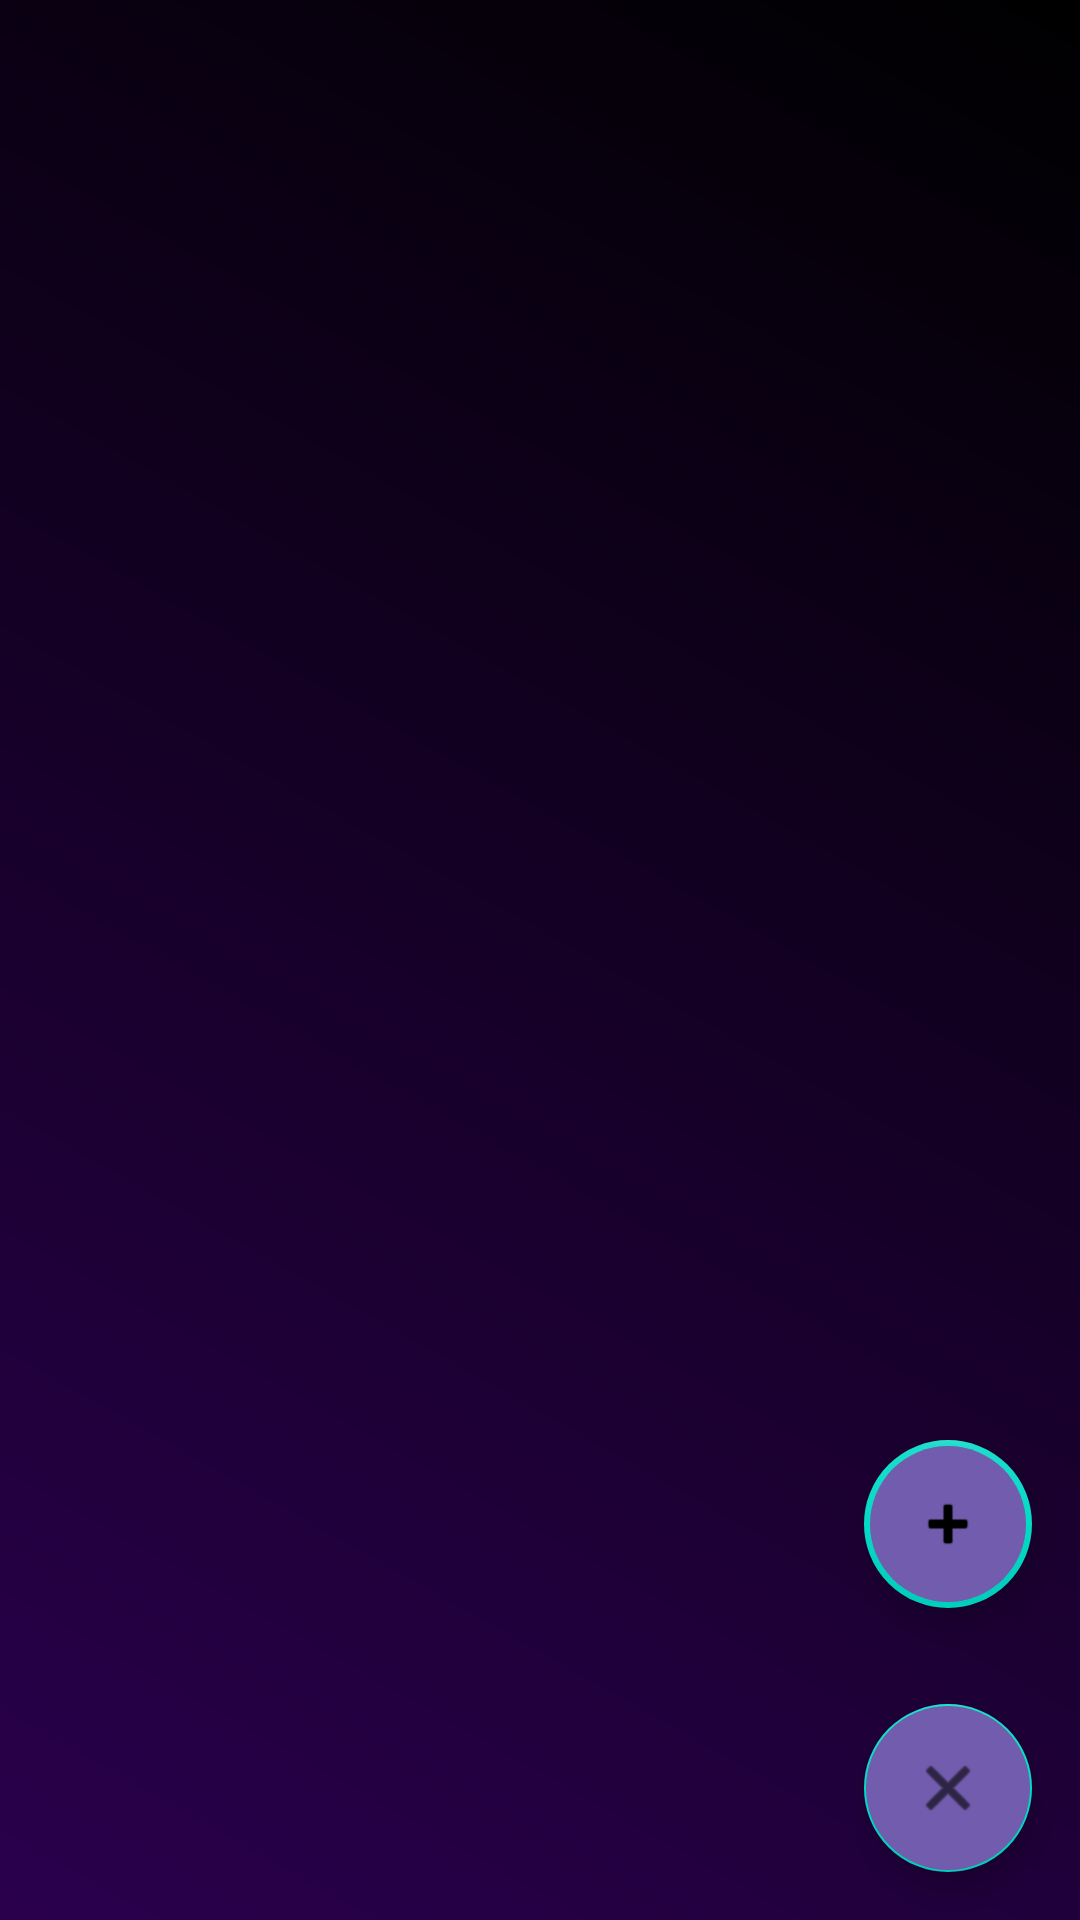

Screen size 1080 × 1920. Icon name, then its center in pixels as (x,y):
add: (948,1524)
close clear cancel: (948,1788)
